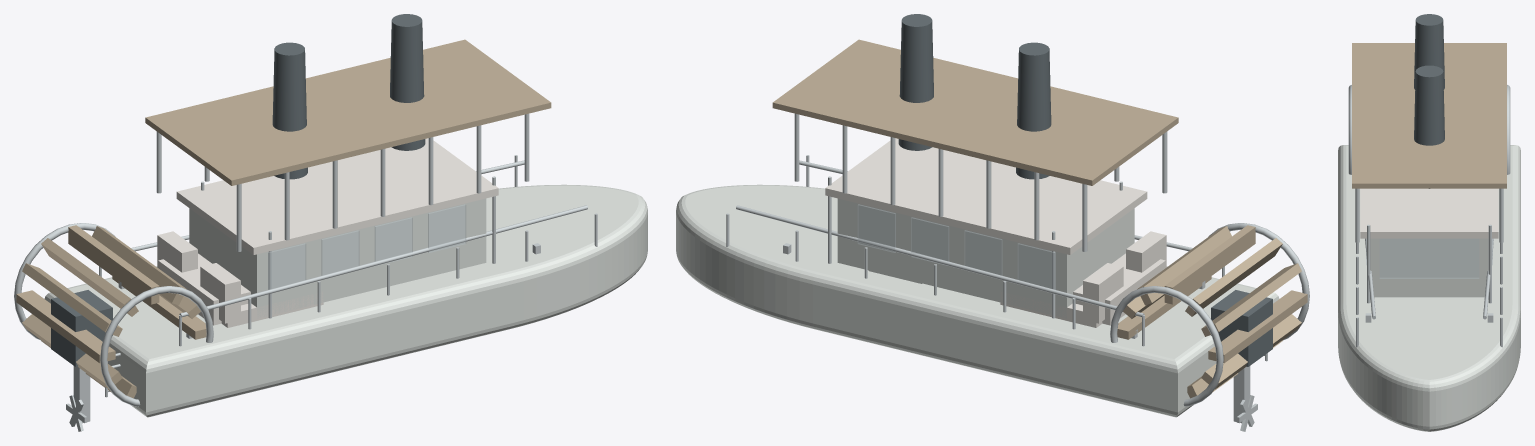
File: steamboat.glb
3 views of the same model, side by side, from view 1: azimuth 30°, elevation 25°; view 2: azimuth 150°, elevation 25°; view 3: azimuth 270°, elevation 25° (orthographic). The views are drawn at different scales.
Visible parts, largest first — view 1: Bayou steamboat, paddleWheel; view 2: Bayou steamboat, paddleWheel; view 3: Bayou steamboat, paddleWheel.
Boxes of the visible parts, left/top/right/bottom form: Bayou steamboat: left=44, top=14, right=647, bottom=431; paddleWheel: left=14, top=223, right=213, bottom=406; Bayou steamboat: left=676, top=14, right=1279, bottom=431; paddleWheel: left=1110, top=223, right=1309, bottom=406; Bayou steamboat: left=1338, top=14, right=1520, bottom=431; paddleWheel: left=1348, top=85, right=1510, bottom=174.
Bounding box in the file's own units: 110 × 58.85 × 33.
